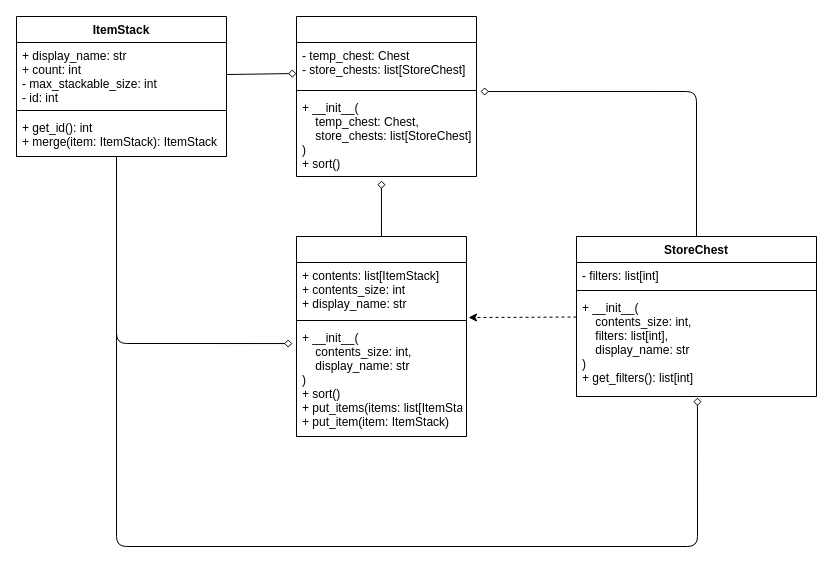
This 833x563 diagram has some shape labels left out. Each missing label, with the box of its shape:
Chest: (296, 236, 466, 436)
ChestSorter: (296, 16, 476, 176)
